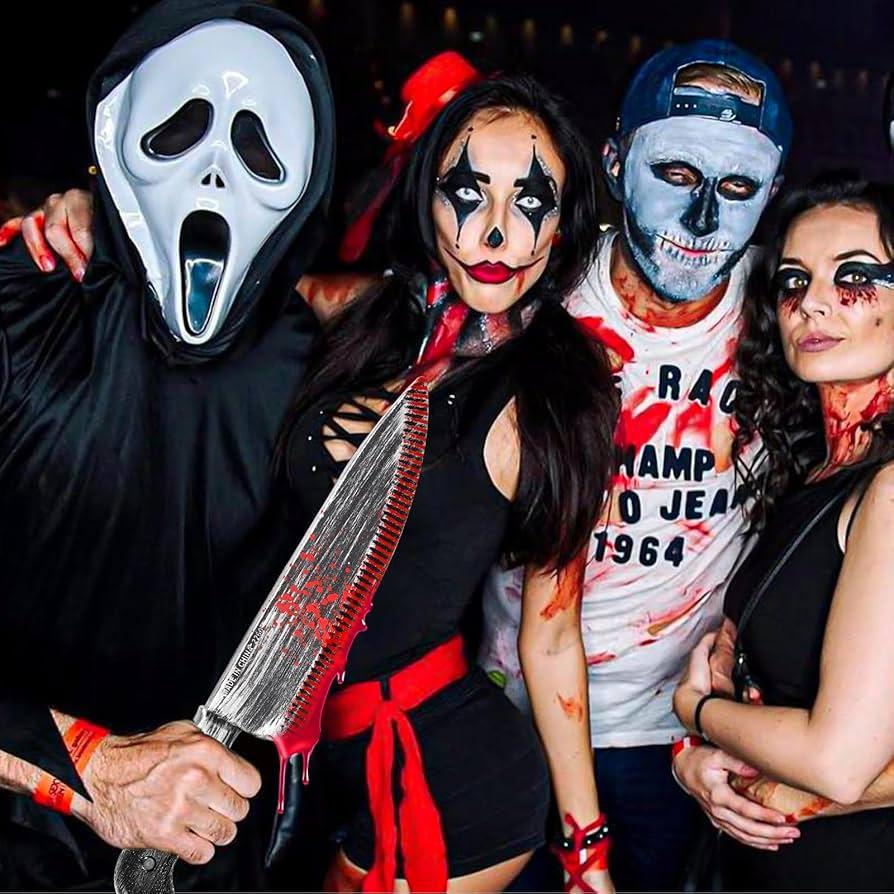Knife: (0, 0, 324, 894), (323, 68, 608, 894), (533, 34, 758, 894), (672, 179, 893, 894), (209, 374, 429, 741), (104, 719, 263, 867)
